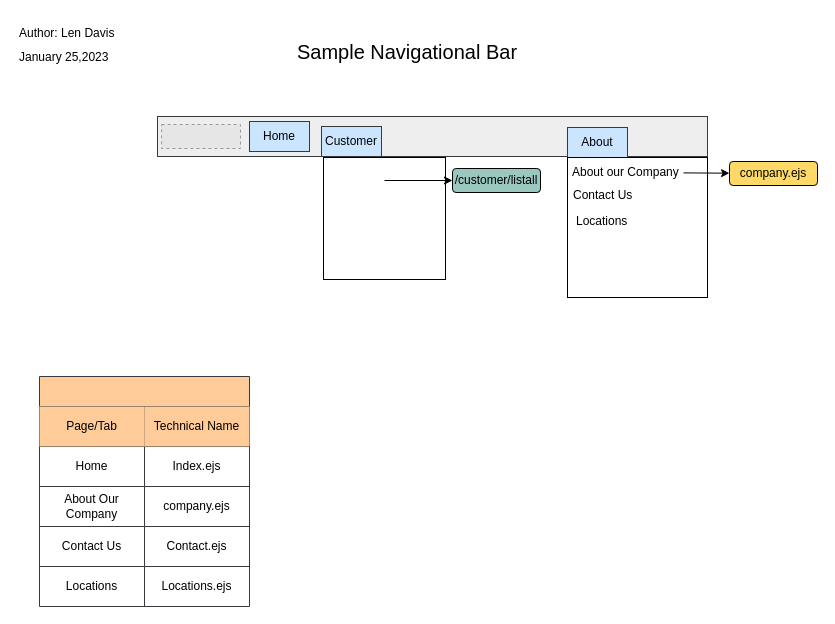
Image size: 835x624. Some labels were removed from this diagram. Grey dashed boxes stand in for pictures. The shapes that lost their labels are listed below. From the top down, each one's box as (x1, y1, x2, y2) in pixels, then its label:
(322, 156, 446, 280): List All
(38, 376, 250, 606): Web Pages Names
